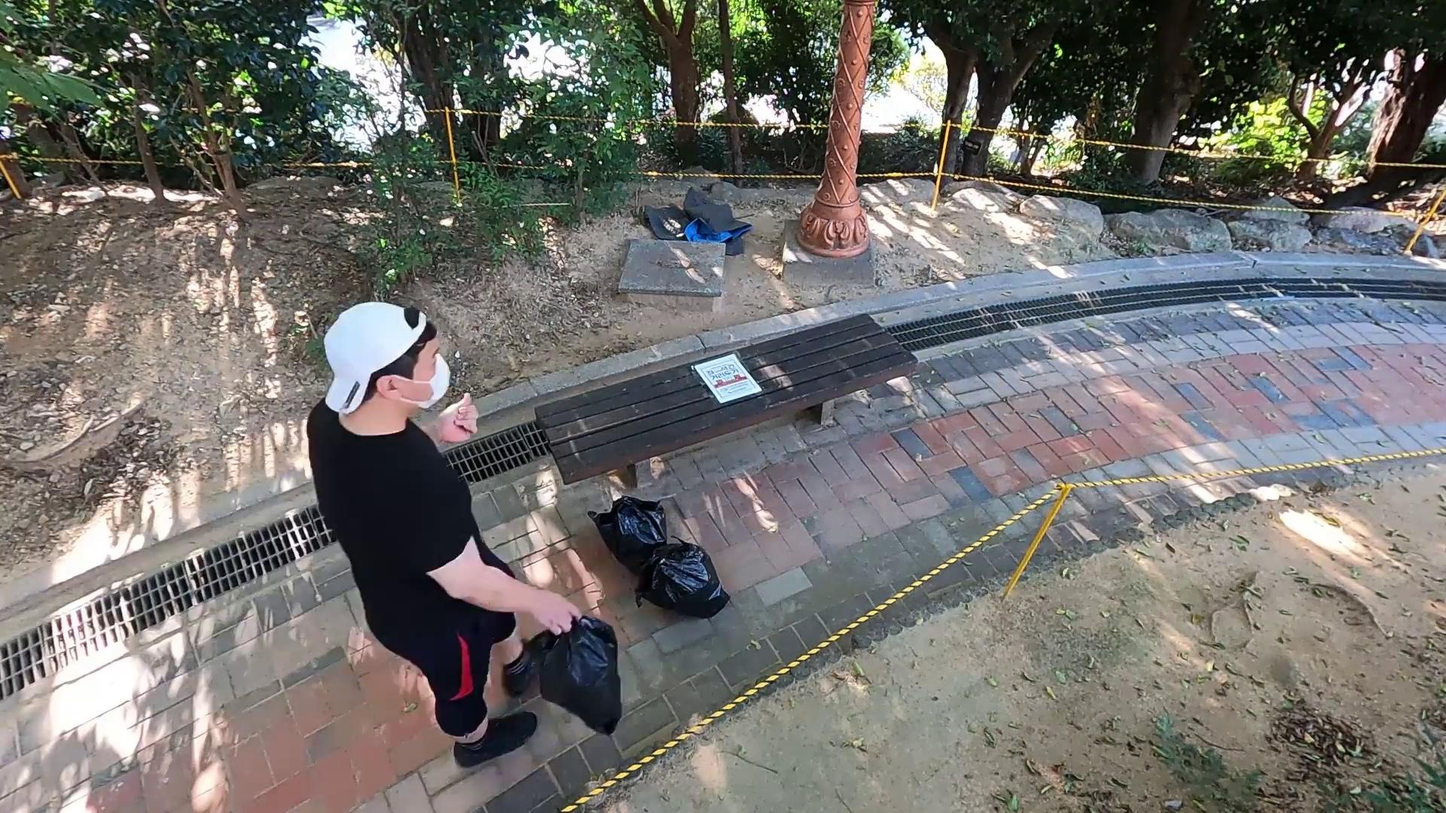person: (289, 291, 635, 772)
trash: (528, 613, 628, 740), (637, 534, 734, 636), (585, 488, 685, 586)
